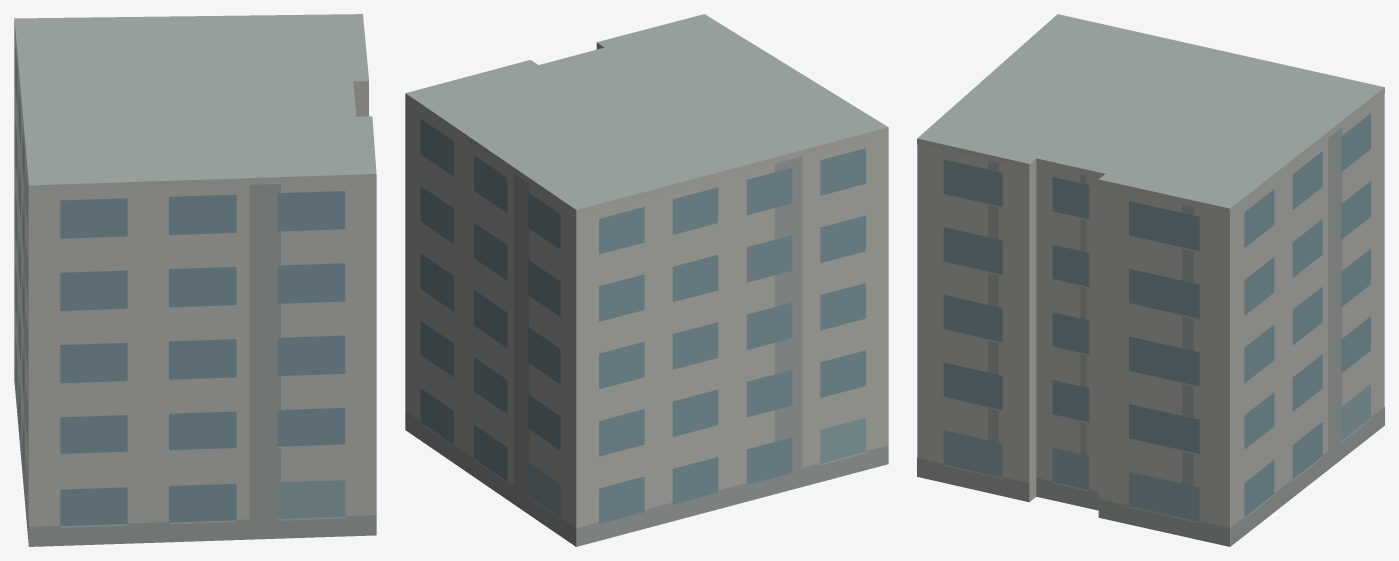
File: survey-upis-32892421.glb
3 renders of one model, left to right at view 1: azimuth 30°, elevation 25°; view 2: azimuth 150°, elevation 25°; view 3: azimuth 270°, elevation 25°, orthographic. The views are drawn at different scales.
Visible parts, largest first — view 1: survey-upis-32892421.tmp; view 2: survey-upis-32892421.tmp; view 3: survey-upis-32892421.tmp.
Part boxes in pixels (x1=…): survey-upis-32892421.tmp: x1=14, y1=14, x2=376, y2=546; survey-upis-32892421.tmp: x1=405, y1=14, x2=888, y2=546; survey-upis-32892421.tmp: x1=917, y1=14, x2=1384, y2=546.
Bounding box in the file's own units: 16.05 × 13 × 16.3.
